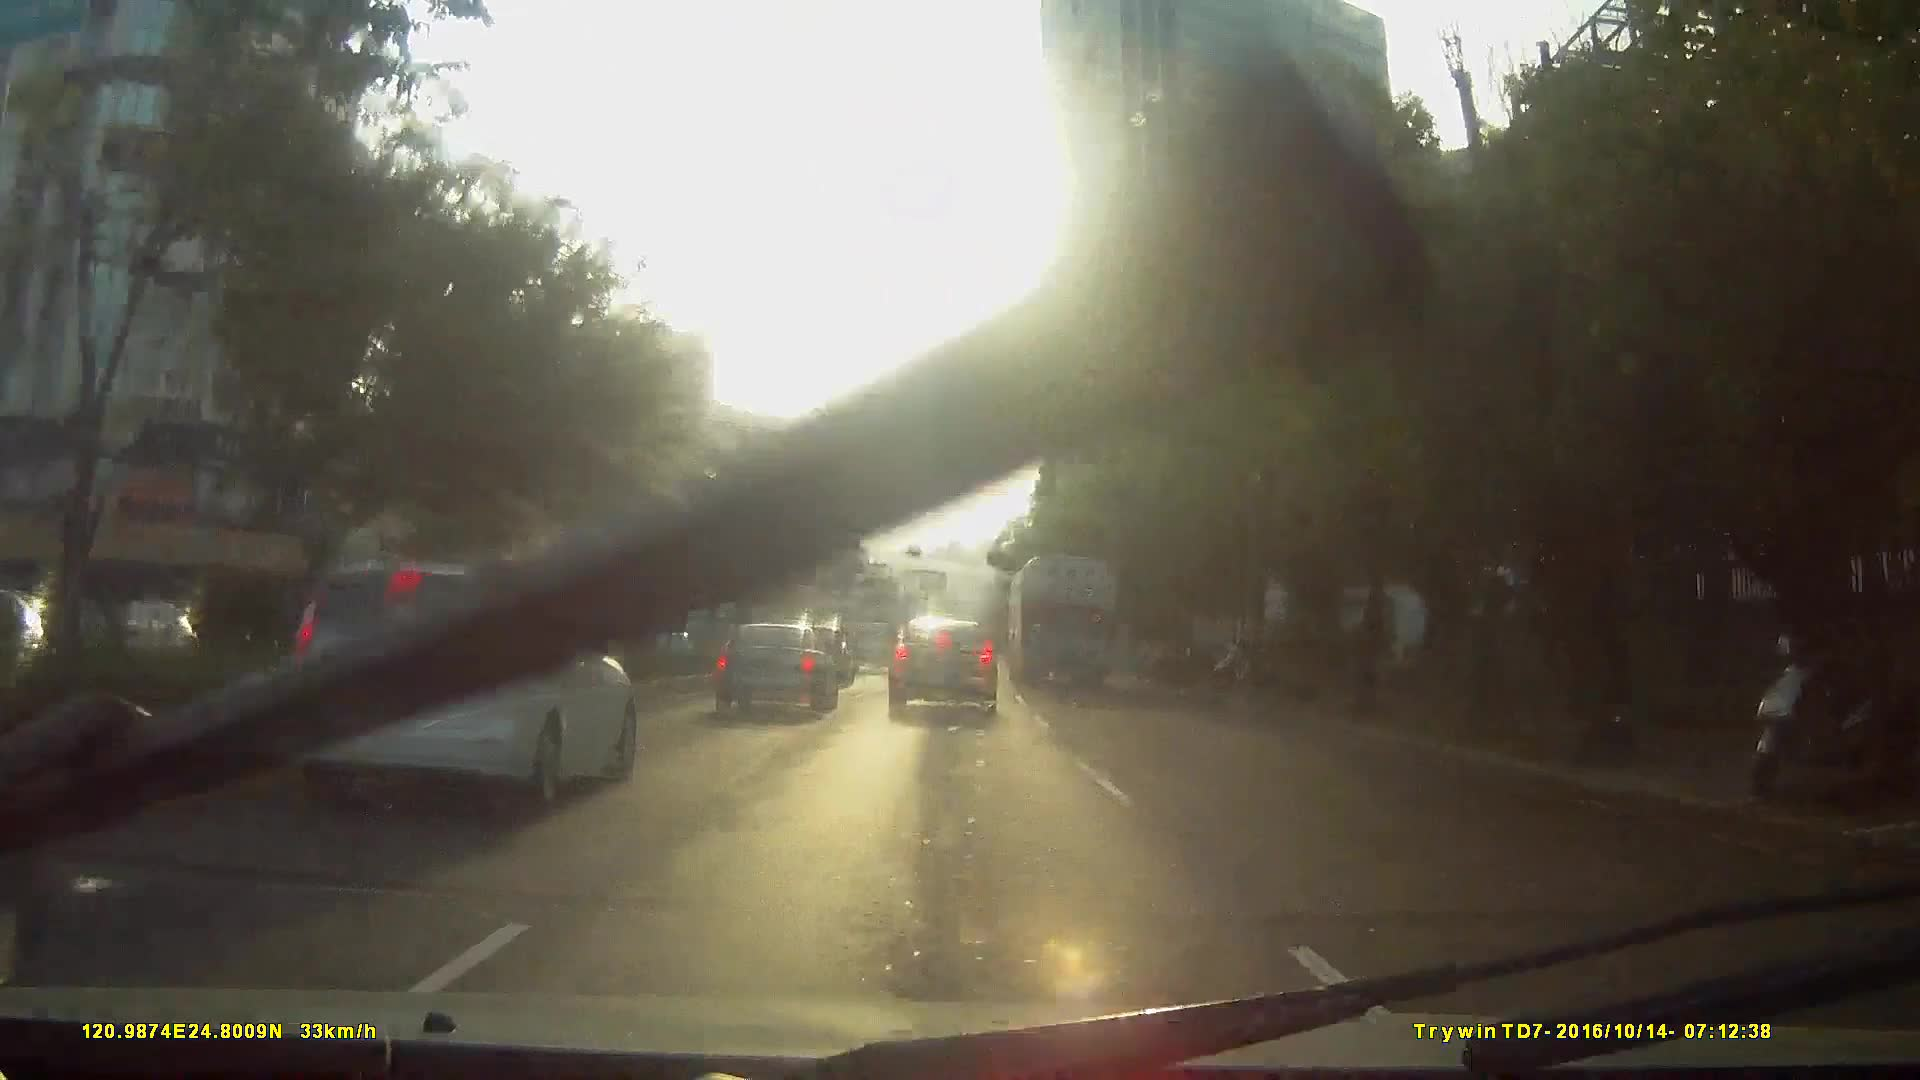vehicle: (251, 556, 684, 868), (264, 553, 647, 822), (1009, 551, 1120, 686), (711, 617, 840, 715), (889, 609, 1000, 713), (848, 618, 901, 673)
